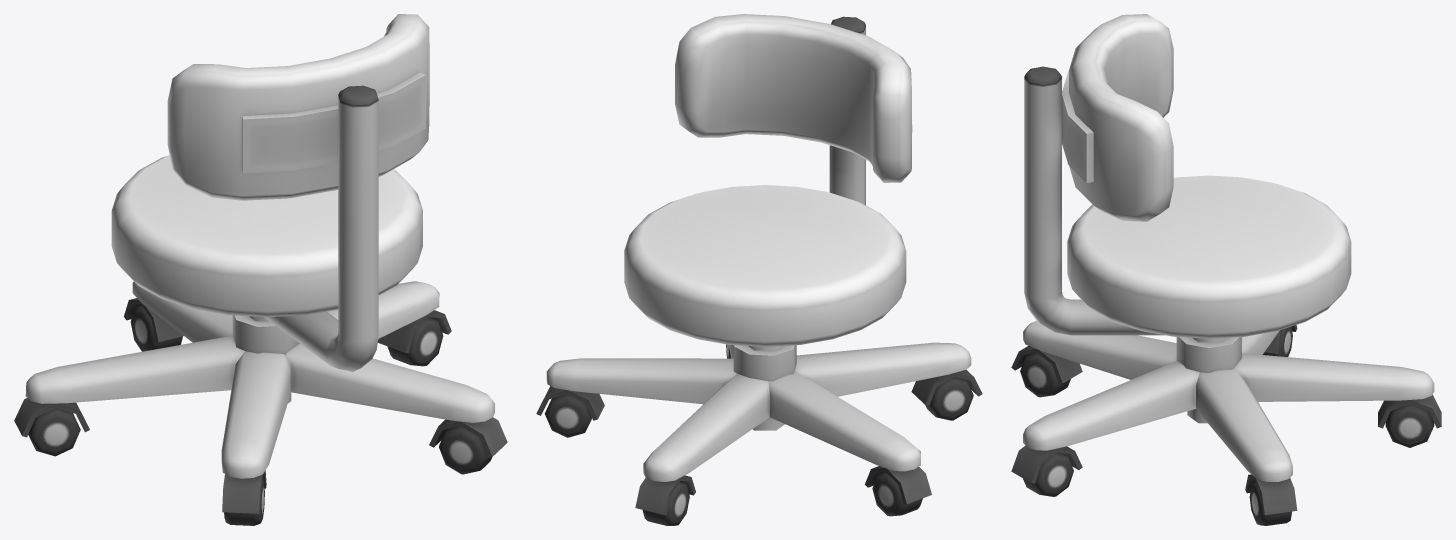
The model's file is Pfb_RoundStools__4.fbx.
3 views of the same model, side by side, from view 1: azimuth 30°, elevation 25°; view 2: azimuth 150°, elevation 25°; view 3: azimuth 270°, elevation 25° (orthographic). The views are drawn at different scales.
Parts seen in each view (by area): view 1: MAT_RoundStools_Black; view 2: MAT_RoundStools_Black; view 3: MAT_RoundStools_Black.
Boxes of the visible parts, x1,y1,x2,y2 form: MAT_RoundStools_Black: (14, 14, 507, 525); MAT_RoundStools_Black: (536, 14, 982, 525); MAT_RoundStools_Black: (1011, 14, 1441, 525).
Size of the model in its own units: 0.9878 by 0.9221 by 0.9394.
1 material, 1 textured.
